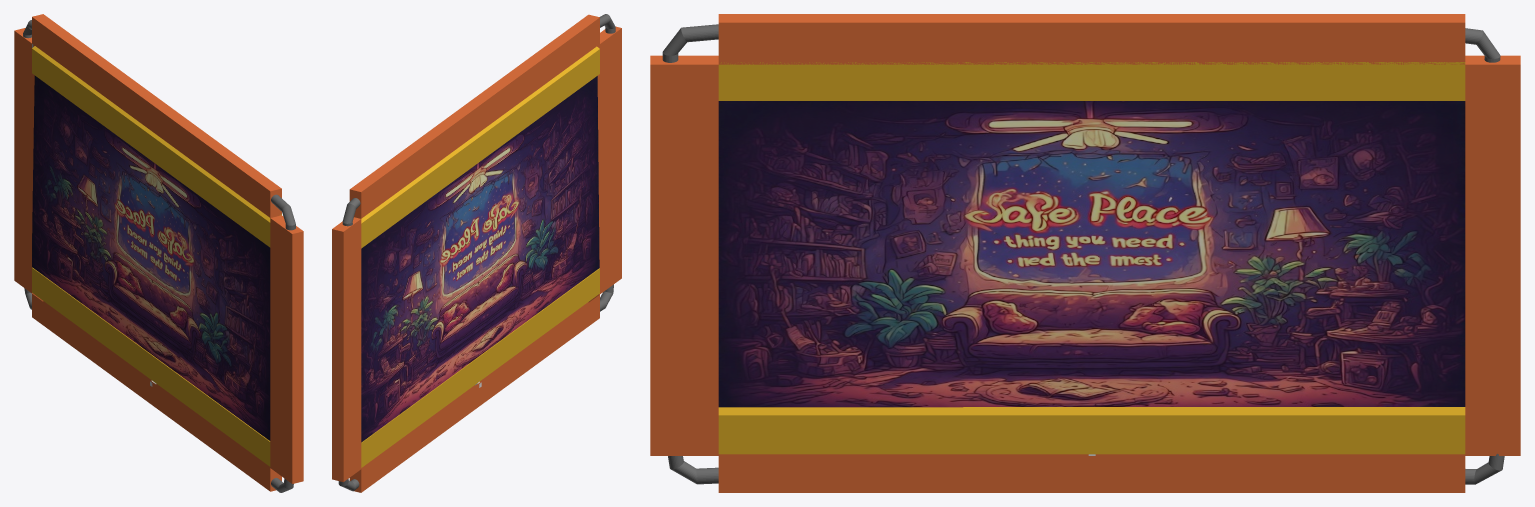
Rendered from billboard 2.fbx.
The picture shows the model from 3 angles, left to right: view 1: azimuth 30°, elevation 25°; view 2: azimuth 150°, elevation 25°; view 3: azimuth 270°, elevation 25°; orthographic projection. The views are drawn at different scales.
Visible parts, largest first — view 1: Plane, Cube.005, Cube.002, Cube.006, Cube.007, Cube.003, Cube.004, Cylinder; view 2: Plane, Cube.005, Cube.004, Cube.006, Cube.007, Cube.003, Cube.002; view 3: Plane, Cube.005, Cube.007, Cube.003, Cube.006, Cube.002, Cube.004, Cylinder.
Boxes of the visible parts, x1,y1,x2,y2 form: Plane: [32, 75, 270, 440]; Cube.005: [32, 14, 281, 217]; Cube.002: [270, 215, 303, 483]; Cube.006: [32, 46, 281, 247]; Cube.007: [32, 267, 270, 466]; Cube.003: [32, 293, 281, 491]; Cube.004: [14, 28, 34, 293]; Cylinder: [271, 194, 295, 230]; Plane: [361, 76, 599, 442]; Cube.005: [349, 14, 599, 218]; Cube.004: [332, 217, 361, 482]; Cube.006: [361, 46, 599, 248]; Cube.007: [361, 268, 599, 467]; Cube.003: [349, 294, 599, 492]; Cube.002: [597, 26, 621, 294]; Plane: [718, 101, 1465, 407]; Cube.005: [718, 14, 1465, 64]; Cube.007: [718, 407, 1465, 454]; Cube.003: [718, 454, 1465, 492]; Cube.006: [718, 62, 1465, 100]; Cube.002: [650, 55, 718, 455]; Cube.004: [1465, 55, 1520, 455]; Cylinder: [662, 24, 718, 62].
Bounding box in the file's own units: 616 × 14403 × 24166.
4 materials, 1 textured.
